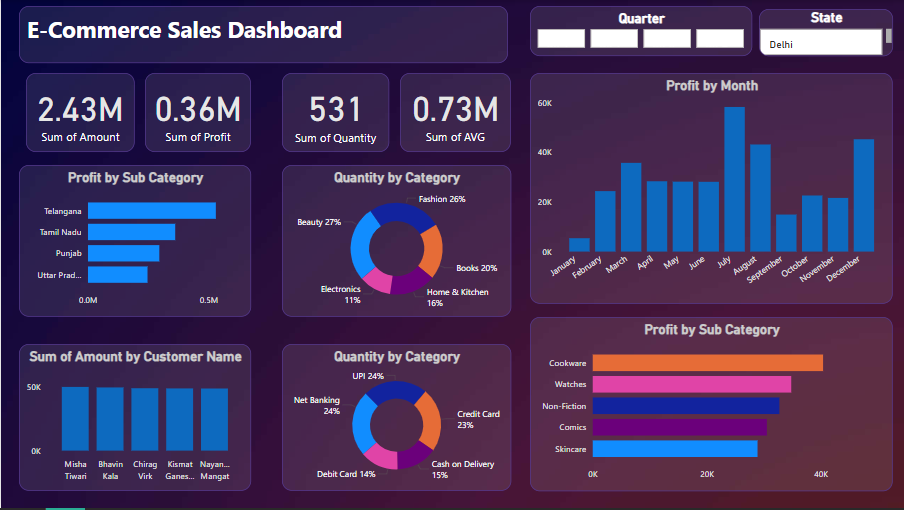

The page's visual inventory and layout, read from the dashboard file:
{"tool":"powerbi","page":{"name":"Page 1","canvas":[1280,720],"ordinal":0},"visuals":[{"type":"textbox","box":[25.5,8.5,693.1,80.8],"z":0},{"type":"columnChart","title":" Profit by Month","fields":{"Category":["Order111.Order Date.Variation.Date Hierarchy.Month"],"Y":["Details1.Profit"]},"box":[749.8,103.5,514.5,327.4],"z":1000},{"type":"barChart","title":"Profit by Sub Category","fields":{"Y":["Details1.Profit"],"Category":["Details1.Sub Category"]},"box":[749.8,449.3,514.5,246.6],"z":2000},{"type":"donutChart","title":" Quantity by Category","fields":{"Category":["Details1.Category"],"Y":["Details1.Quantity"]},"box":[398.3,233.9,324.6,215.4],"z":3000},{"type":"donutChart","title":" Quantity by Category","fields":{"Y":["Details1.Quantity"],"Category":["Details1.Payment Mode"]},"box":[398.3,487.6,324.6,208.3],"z":4000},{"type":"card","fields":{"Values":["Details1.Amount"]},"box":[35.4,103.5,154.5,112],"z":5000},{"type":"card","fields":{"Values":["Details1.Profit"]},"box":[204.1,103.5,150.2,112],"z":6000},{"type":"card","fields":{"Values":["Details1.Quantity"]},"box":[398.3,103.5,151.7,112],"z":7000},{"type":"card","fields":{"Values":["Details1.AVG"]},"box":[565.5,103.5,157.3,112],"z":8000},{"type":"barChart","title":"Profit by Sub Category","fields":{"Category":["Order111.State"],"Y":["Details1.Amount"]},"box":[25.5,233.9,328.8,215.4],"z":9000},{"type":"columnChart","fields":{"Category":["Order111.Customer Name"],"Y":["Details1.Amount"]},"box":[25.5,487.6,328.8,208.3],"z":10000},{"type":"advancedSlicerVisual","fields":{"Values":["Order111.State"]},"box":[1074.3,12.8,189.9,66.6],"z":11000},{"type":"advancedSlicerVisual","fields":{"Values":["Order111.Order Date.Variation.Date Hierarchy.Quarter"]},"box":[749.8,8.5,314.6,70.9],"z":12000}]}

Visuals, with their boxes in screenshot pixels (x1, y1, x2, y2), scaled from the page's 1280x720 canvas onto the 904x510 screenshot:
textbox: [x1=18, y1=6, x2=508, y2=63]
" Profit by Month" columnChart: [x1=530, y1=73, x2=893, y2=305]
"Profit by Sub Category" barChart: [x1=530, y1=318, x2=893, y2=493]
" Quantity by Category" donutChart: [x1=281, y1=166, x2=511, y2=318]
" Quantity by Category" donutChart: [x1=281, y1=345, x2=511, y2=493]
card - Details1.Amount: [x1=25, y1=73, x2=134, y2=153]
card - Details1.Profit: [x1=144, y1=73, x2=250, y2=153]
card - Details1.Quantity: [x1=281, y1=73, x2=388, y2=153]
card - Details1.AVG: [x1=399, y1=73, x2=510, y2=153]
"Profit by Sub Category" barChart: [x1=18, y1=166, x2=250, y2=318]
columnChart - Order111.Customer Name x Details1.Amount: [x1=18, y1=345, x2=250, y2=493]
advancedSlicerVisual - Order111.State: [x1=759, y1=9, x2=893, y2=56]
advancedSlicerVisual - Order111.Order Date.Variation.Date Hierarchy.Quarter: [x1=530, y1=6, x2=752, y2=56]
